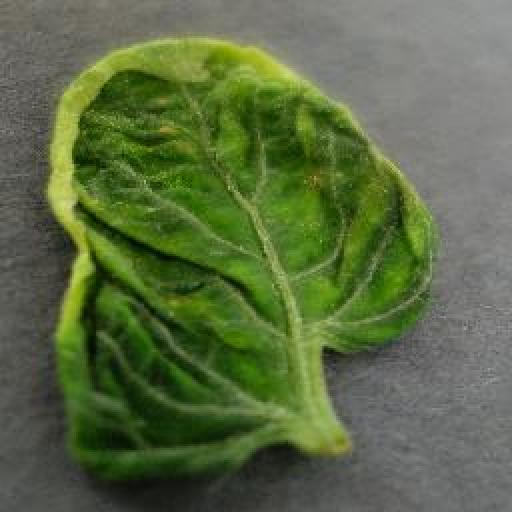Yellow Leaf Curl Virus: (42, 34, 438, 512)
